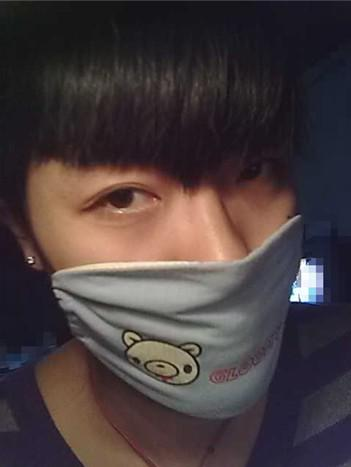WRONG: (50, 136, 306, 392)
